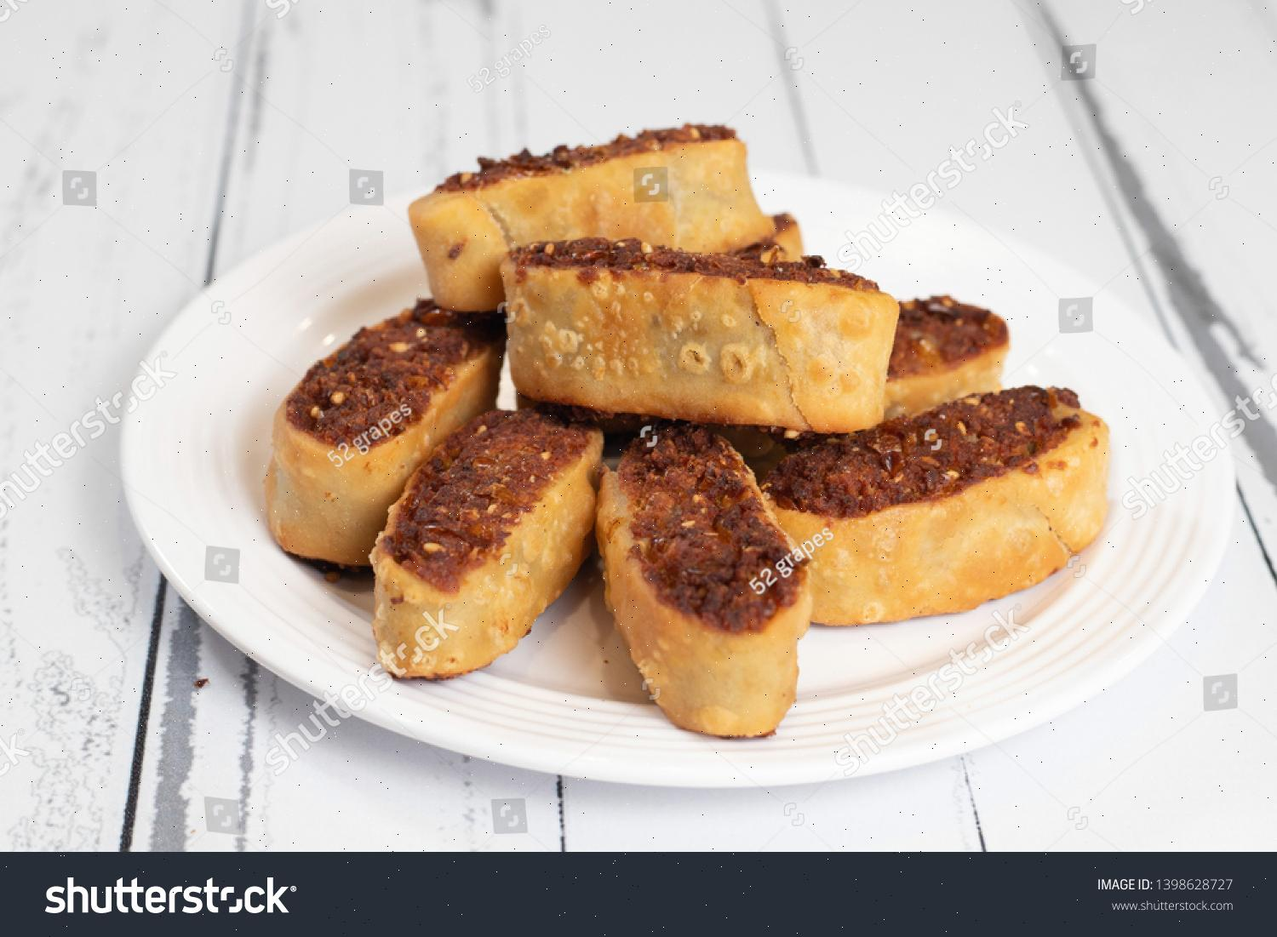bhakarwadi: (278, 131, 1121, 735)
